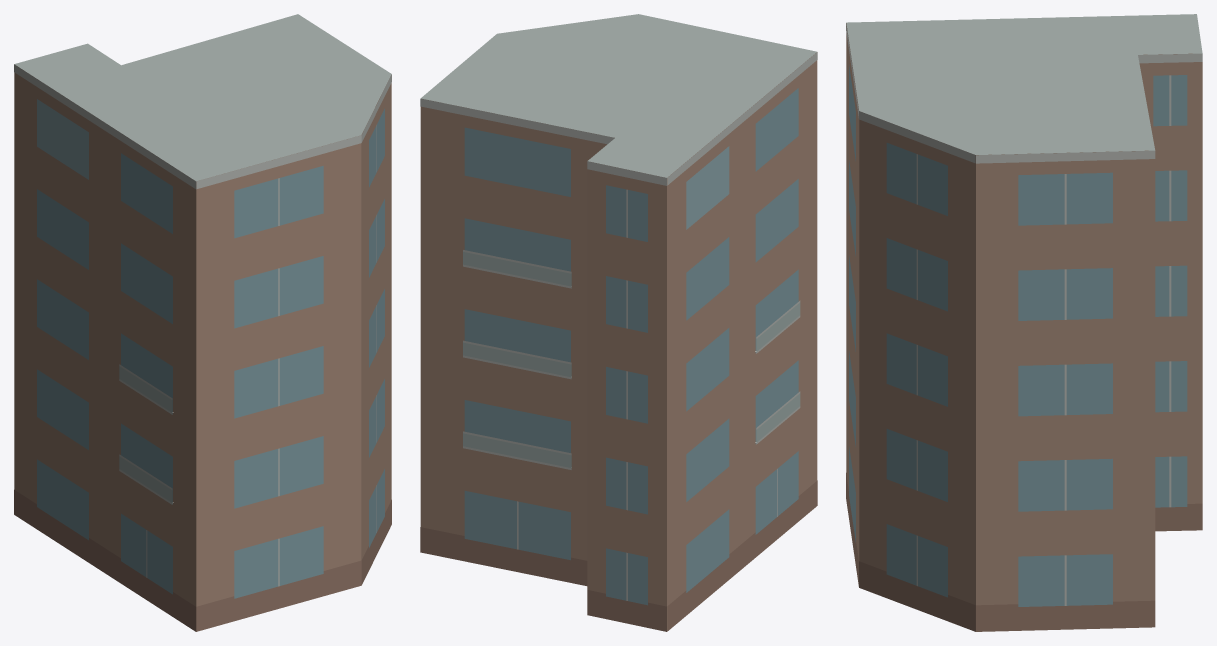
File: survey-upis-32696721.glb
3 views of the same model, side by side, from view 1: azimuth 30°, elevation 25°; view 2: azimuth 150°, elevation 25°; view 3: azimuth 270°, elevation 25° (orthographic). The views are drawn at different scales.
Visible parts, largest first — view 1: survey-upis-32696721.tmp; view 2: survey-upis-32696721.tmp; view 3: survey-upis-32696721.tmp.
Boxes of the visible parts, bbox=[...] form: survey-upis-32696721.tmp: bbox=[14, 14, 391, 631]; survey-upis-32696721.tmp: bbox=[420, 14, 817, 631]; survey-upis-32696721.tmp: bbox=[846, 14, 1202, 631].
Bounding box in the file's own units: 8.7 × 13.7 × 9.29.
